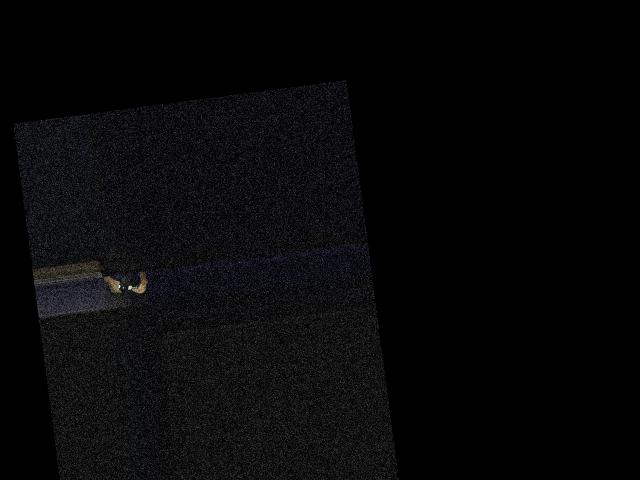beer: (106, 279, 136, 293)
